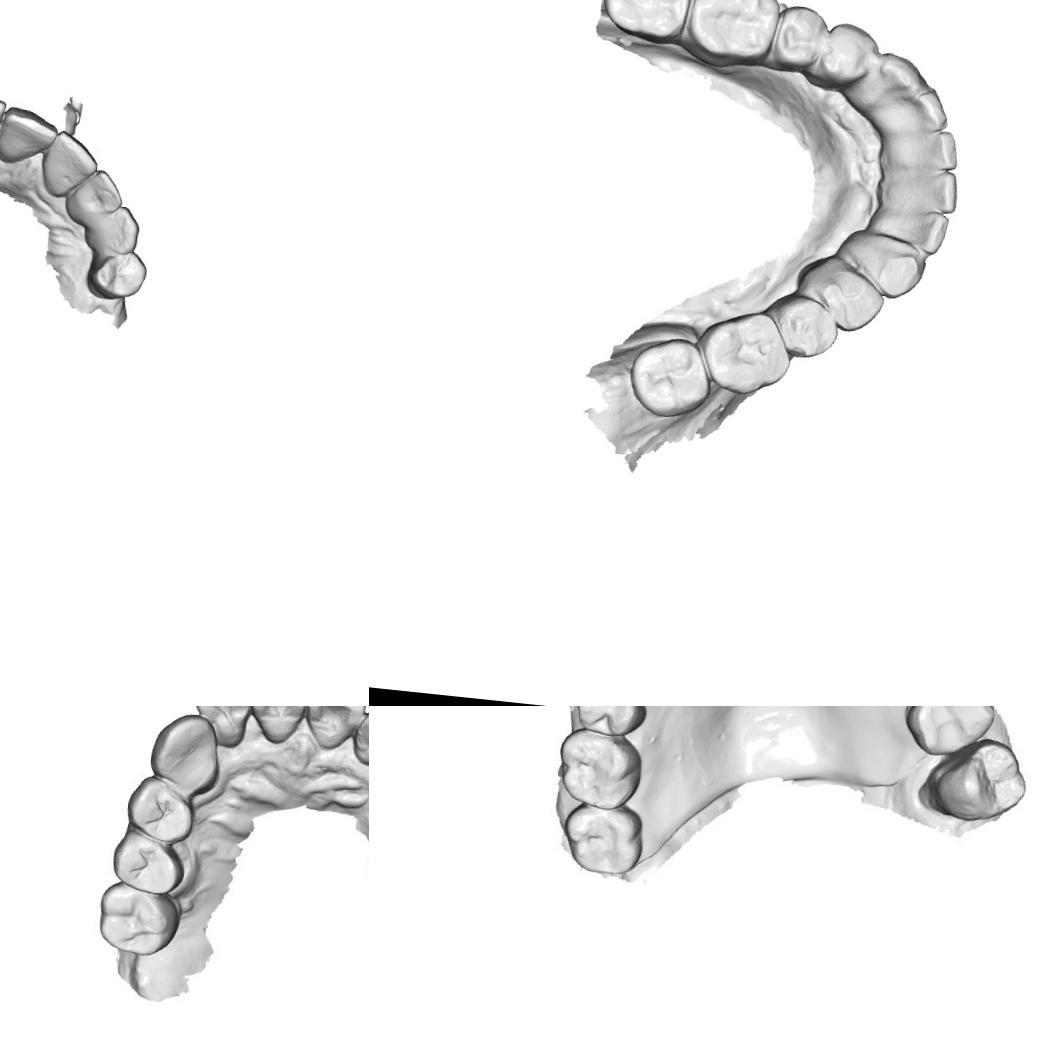canine: (838, 226, 930, 303), (146, 708, 226, 794), (866, 49, 930, 108), (82, 201, 143, 257)
incisor: (38, 128, 102, 202), (60, 164, 128, 230), (0, 101, 61, 169), (893, 162, 960, 218), (890, 204, 954, 258), (894, 126, 960, 178), (888, 86, 952, 138), (185, 706, 255, 753), (303, 706, 362, 752), (246, 706, 305, 737), (356, 712, 369, 766)
molar: (927, 730, 1031, 831), (694, 305, 798, 401), (625, 332, 717, 424), (552, 726, 646, 810), (562, 796, 649, 884), (92, 878, 180, 962), (686, 0, 784, 67), (906, 706, 1000, 758), (597, 0, 693, 44)
premolar: (108, 828, 190, 900), (123, 772, 201, 847), (810, 20, 884, 95), (768, 291, 843, 363), (765, 0, 835, 74), (819, 268, 883, 333), (84, 245, 150, 303), (571, 706, 649, 738)
